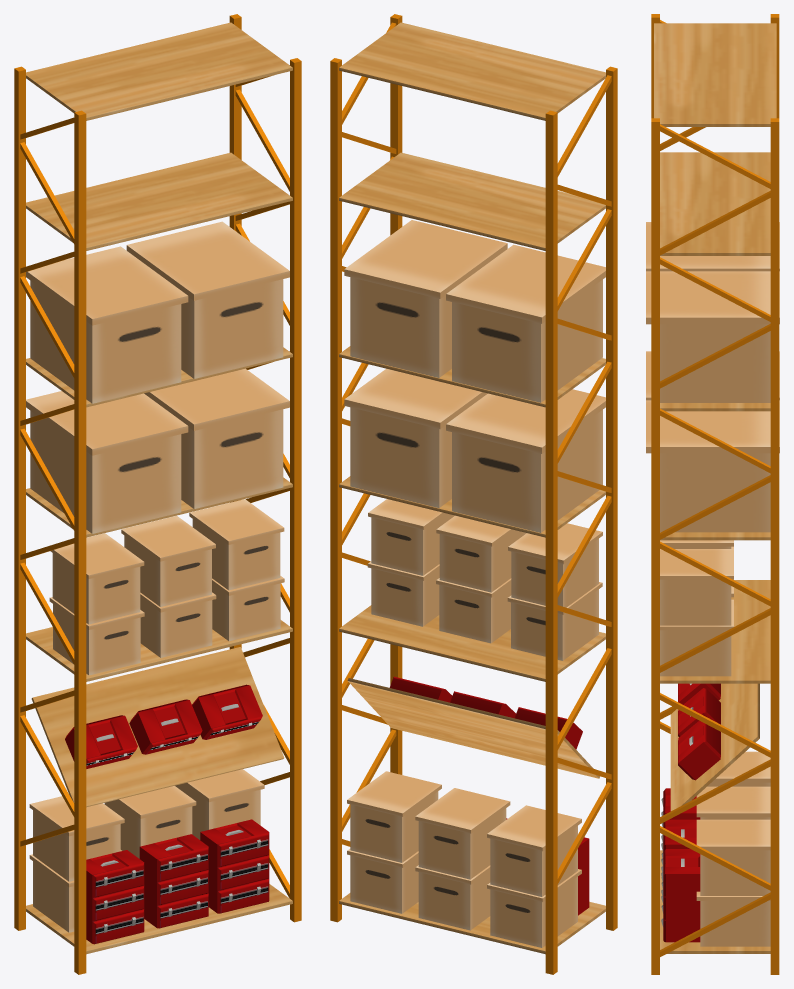
The model's file is Tool_Box_Rack.fbx.
3 renders of one model, left to right at view 1: azimuth 30°, elevation 25°; view 2: azimuth 150°, elevation 25°; view 3: azimuth 270°, elevation 25°, orthographic.
Parts seen in each view (by area): view 1: Toolbox_Rack; view 2: Toolbox_Rack; view 3: Toolbox_Rack.
Part boxes in pixels (x1,y1,x2,y2): Toolbox_Rack: (14, 14, 301, 974); Toolbox_Rack: (330, 14, 617, 974); Toolbox_Rack: (646, 14, 779, 974).
Bounding box in the file's own units: 2 × 7.37 × 1.05.
